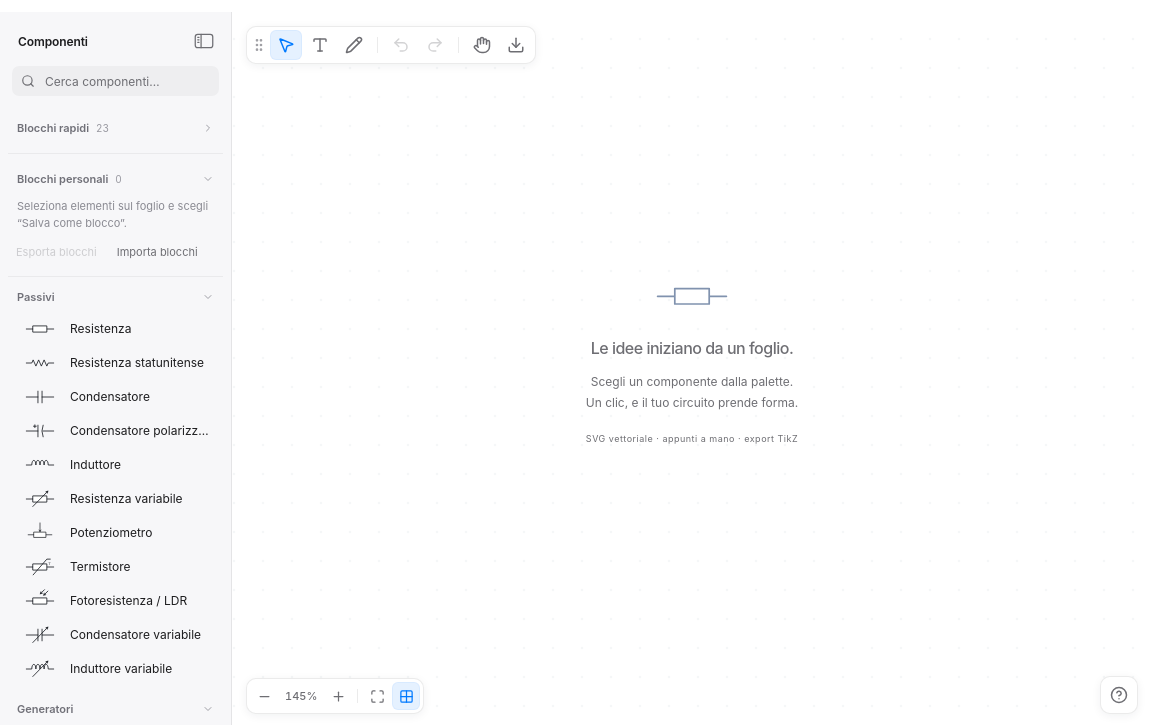
Test: additive quick block palette and placement › searches aliases even with the block section and category collapsed
Type "star" into the field labelled "Cerca componenti".
click(126, 81); type("star")  # box [43, 72, 210, 90]
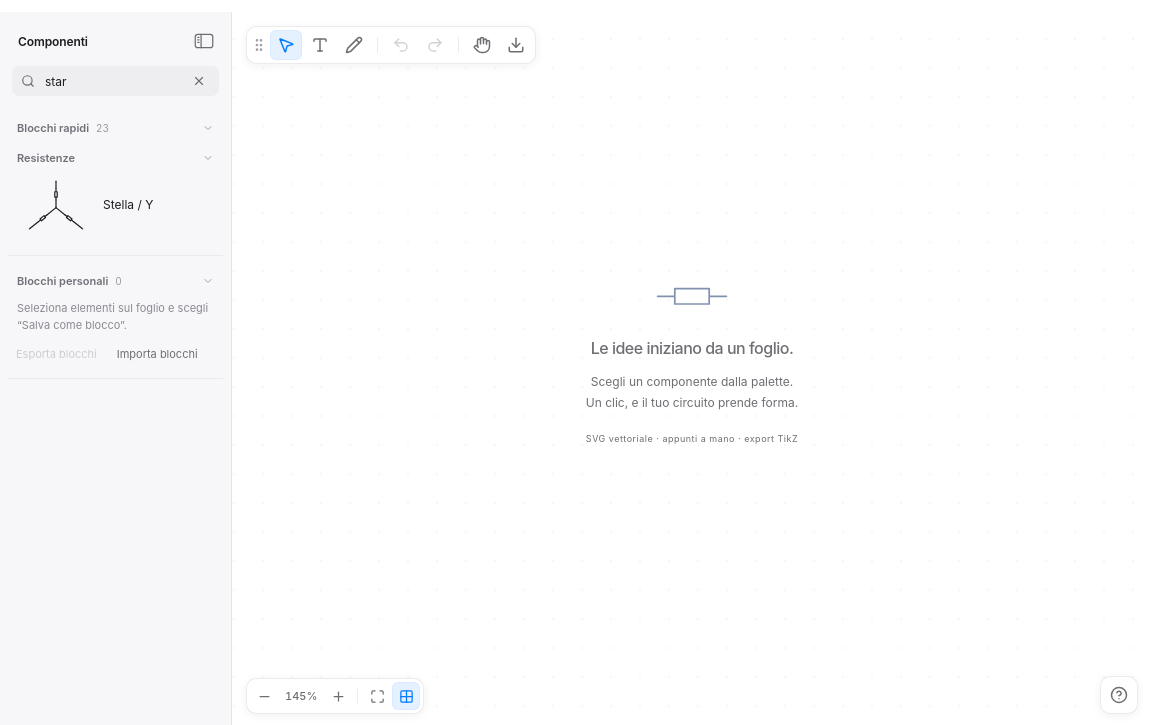
Replace the text in the field named "Cerca componenti" with "triangle" at (112, 81), box [43, 72, 180, 90]
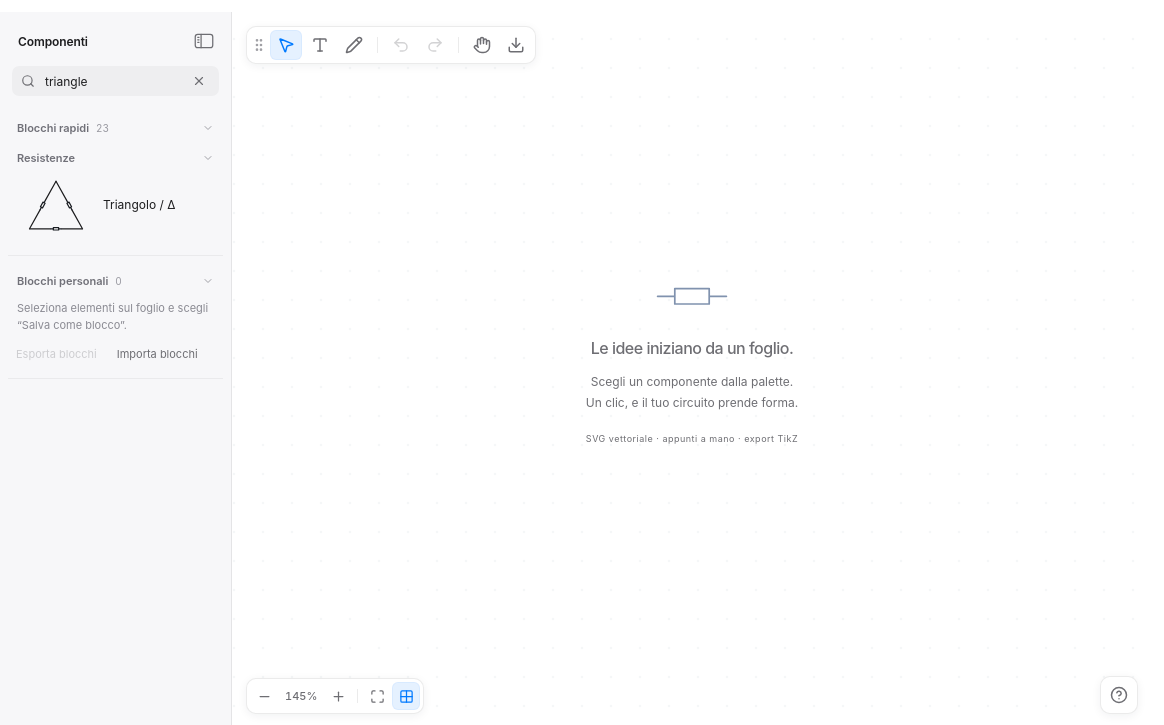
Replace the text in the field named "Cerca componenti" with "ponte" at (112, 81), box [43, 72, 180, 90]
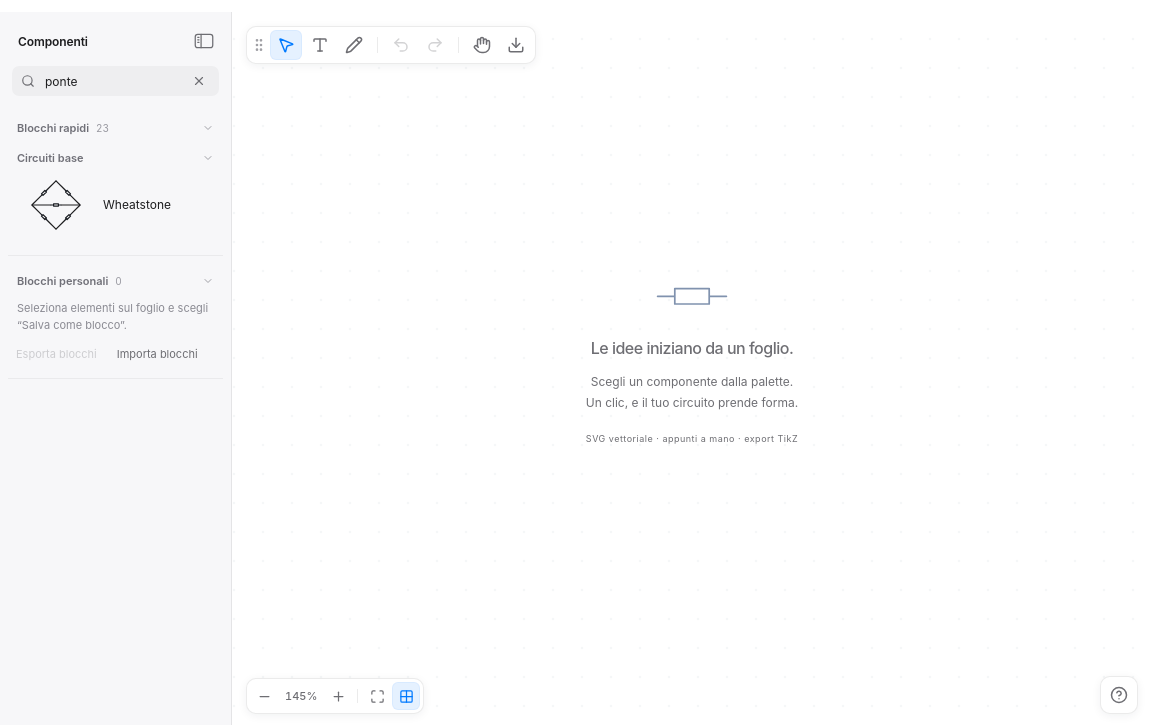
Replace the text in the field named "Cerca componenti" with "thevenin" at (112, 81), box [43, 72, 180, 90]
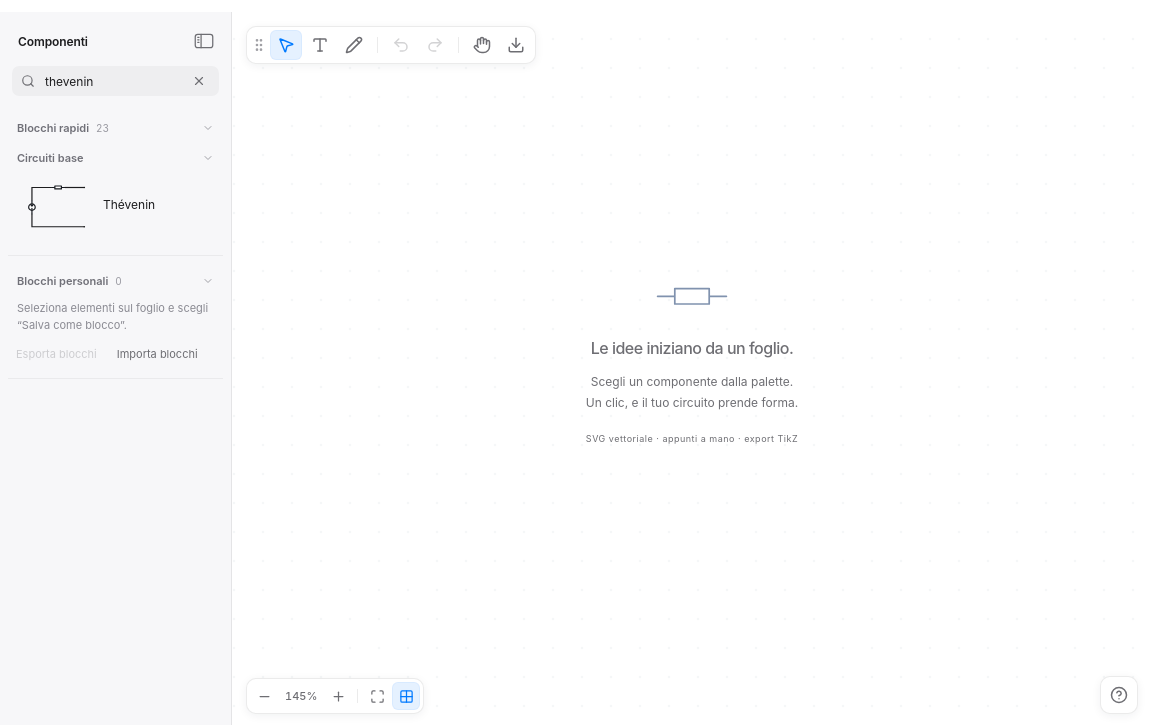
Replace the text in the field named "Cerca componenti" with "nonesuch" at (112, 81), box [43, 72, 180, 90]
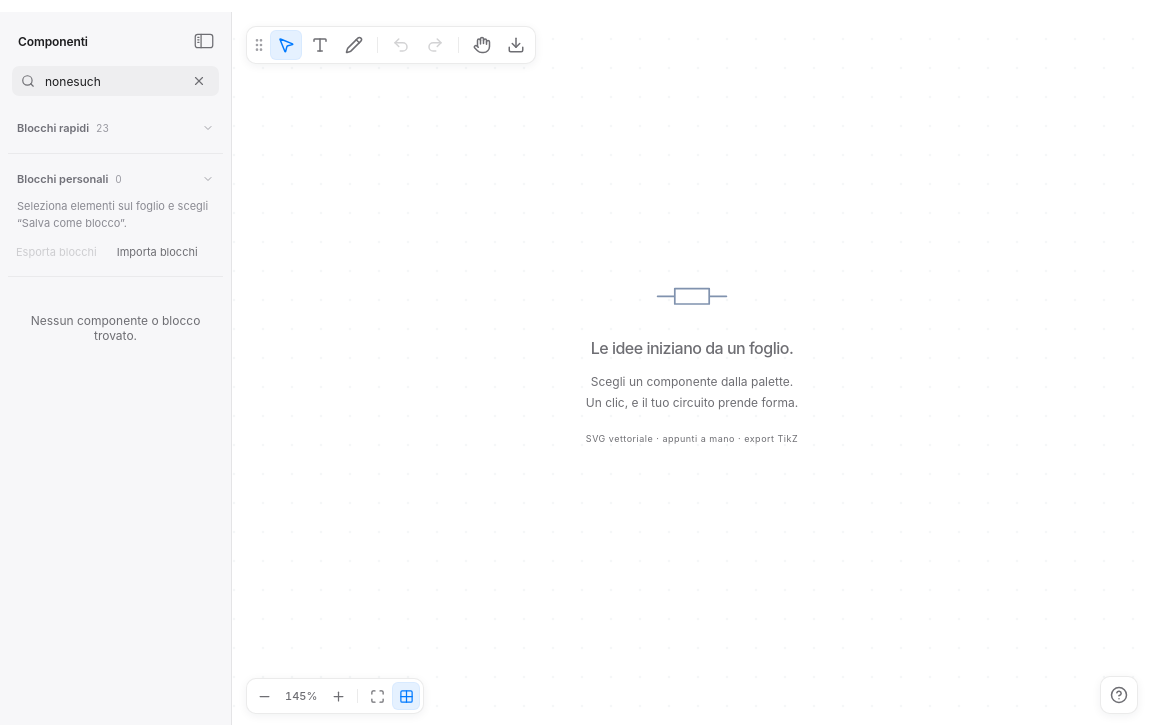
Expected: the text "Nessun componente o blocco trovato." is shown, [31, 313, 200, 343]
